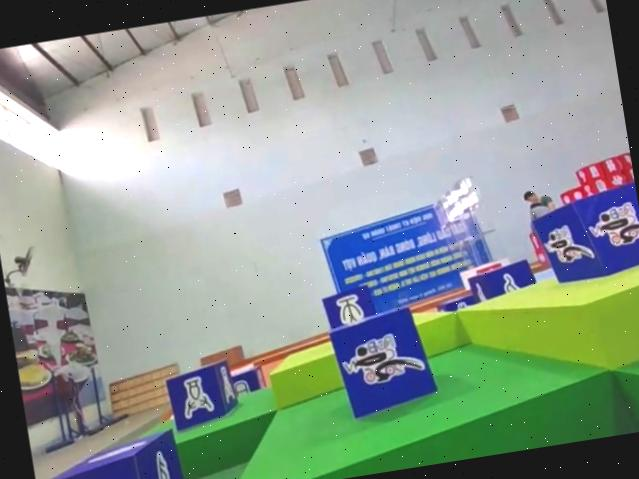R1 Blue: (324, 302, 439, 421), (528, 182, 639, 288)
R2 Fake Blue: (318, 284, 378, 331)
R2 Real Blue: (36, 427, 187, 479), (161, 360, 239, 435), (464, 258, 538, 305)
